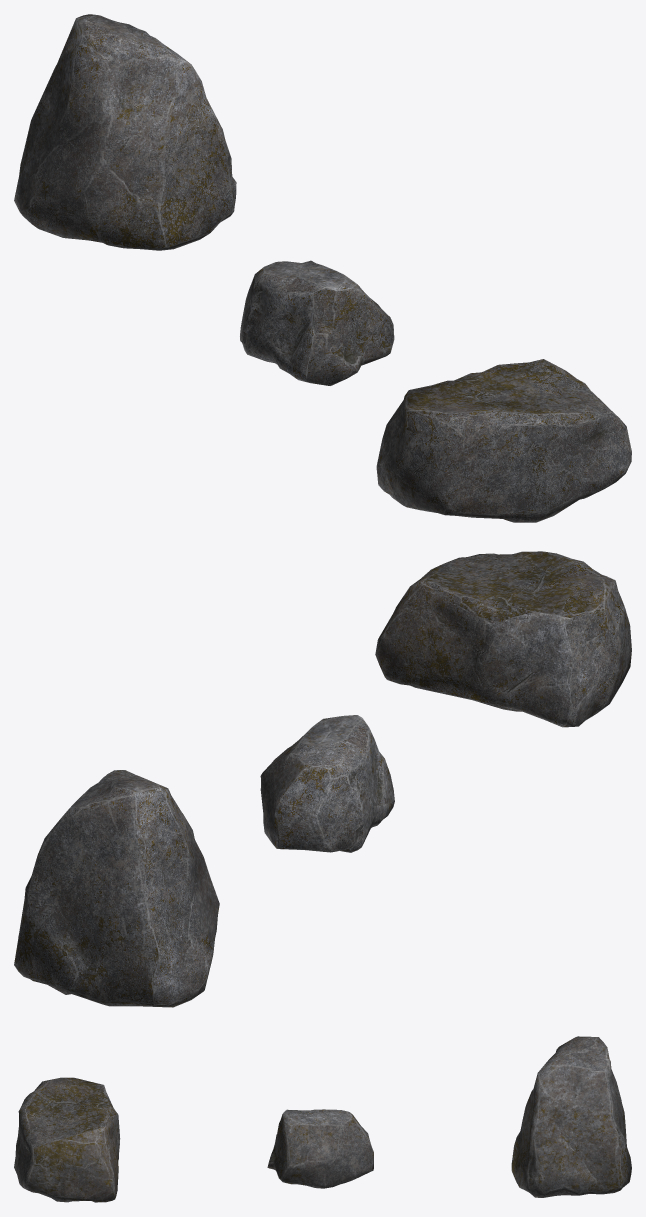
The model's file is Rock_01.glb.
3 renders of one model, top to bottom at view 1: azimuth 30°, elevation 25°; view 2: azimuth 150°, elevation 25°; view 3: azimuth 270°, elevation 25°, orthographic. The views are drawn at different scales.
Visible parts, largest first — view 1: stone_big_2, stone_big_1, stone_big_3; view 2: stone_big_2, stone_big_1, stone_big_3; view 3: stone_big_2, stone_big_1, stone_big_3.
Boxes of the visible parts, box(x1,y1,x2,y2) form: stone_big_2: box(14, 14, 236, 250); stone_big_1: box(376, 359, 631, 522); stone_big_3: box(240, 260, 394, 385); stone_big_2: box(14, 770, 219, 1007); stone_big_1: box(375, 551, 631, 727); stone_big_3: box(260, 715, 394, 852); stone_big_2: box(511, 1036, 631, 1197); stone_big_1: box(14, 1077, 120, 1202); stone_big_3: box(267, 1109, 373, 1188).
Size of the model in its own units: 7.71 by 7.28 by 30.02.
1 material, 1 textured.
